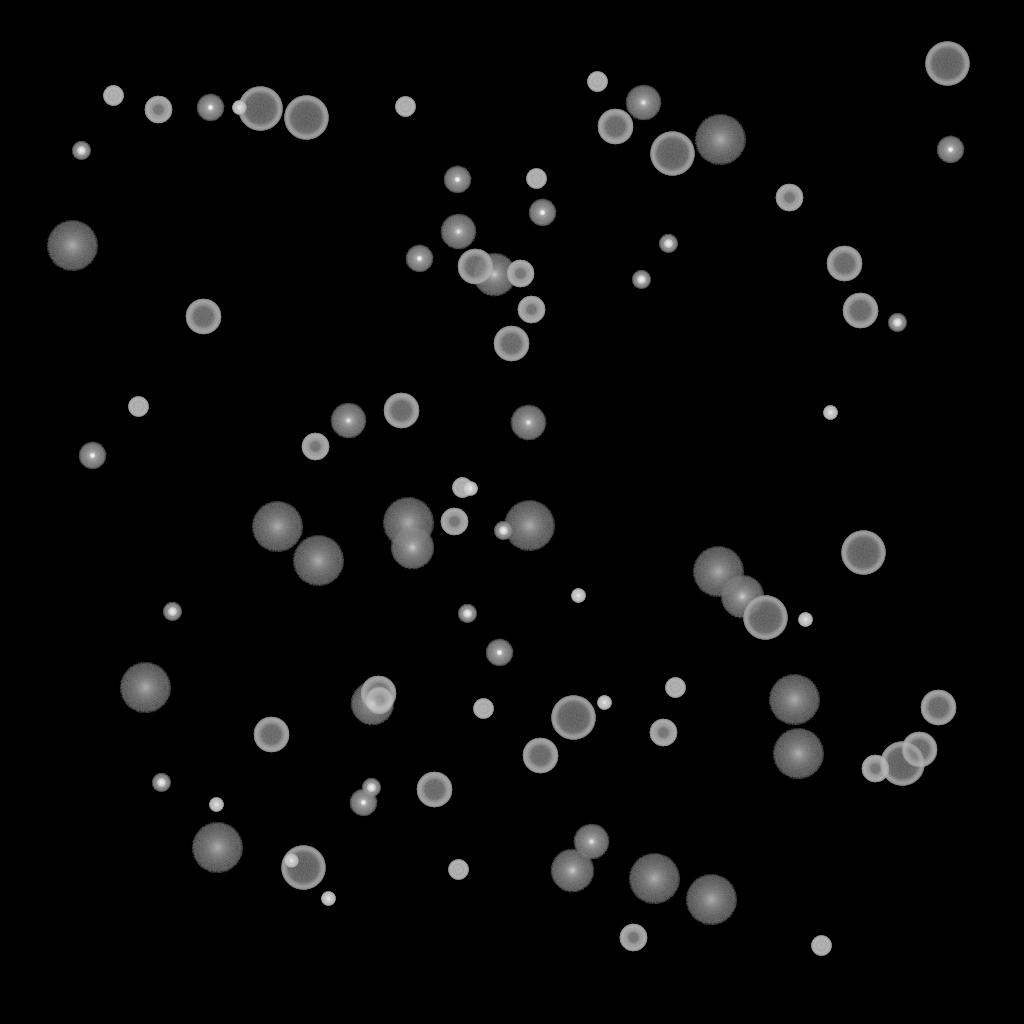depth:-10: (443, 166, 471, 194), (936, 136, 964, 164), (405, 245, 433, 273), (196, 94, 224, 122), (349, 789, 377, 817), (528, 199, 556, 227), (485, 639, 513, 667), (78, 442, 106, 470)
depth:-20: (888, 314, 906, 332), (163, 603, 181, 621), (632, 271, 650, 289), (659, 235, 677, 253), (72, 142, 90, 160), (458, 605, 476, 623), (494, 522, 512, 540), (152, 774, 170, 792), (362, 779, 380, 797)
depth:-30: (321, 892, 335, 906), (798, 613, 812, 627), (597, 696, 611, 710), (571, 589, 585, 603), (463, 482, 477, 496), (284, 854, 298, 868), (232, 101, 246, 115), (823, 406, 837, 420), (209, 798, 223, 812)
depth:-40: (526, 169, 546, 189), (811, 936, 831, 956), (128, 397, 148, 417), (452, 478, 472, 498), (448, 860, 468, 880), (473, 699, 493, 719), (665, 678, 685, 698), (103, 86, 123, 106), (395, 97, 415, 117), (587, 72, 607, 92)
depth:-50: (144, 96, 172, 124), (440, 508, 468, 536), (301, 433, 329, 461), (775, 184, 803, 212), (619, 924, 647, 952), (365, 687, 393, 715), (649, 719, 677, 747), (506, 260, 534, 288), (861, 755, 889, 783), (517, 296, 545, 324)
depth:-60: (920, 690, 956, 726), (597, 109, 633, 145), (826, 246, 862, 282), (360, 676, 396, 712), (253, 717, 289, 753), (457, 249, 493, 285), (416, 772, 452, 808), (493, 326, 529, 362), (185, 299, 221, 335), (383, 393, 419, 429), (842, 293, 878, 329), (901, 732, 937, 768), (522, 738, 558, 774)
depth:-70: (841, 531, 885, 575), (284, 96, 328, 140), (743, 596, 787, 640), (650, 132, 694, 176), (281, 846, 325, 890), (551, 696, 595, 740), (880, 742, 924, 786), (238, 87, 282, 131), (925, 42, 969, 86)
depth:0: (573, 824, 609, 860), (330, 403, 366, 439), (440, 214, 476, 250), (510, 405, 546, 441), (625, 85, 661, 121)
depth:10: (472, 253, 516, 297), (390, 526, 434, 570), (550, 849, 594, 893), (350, 682, 394, 726), (720, 575, 764, 619)
depth:20: (292, 536, 344, 586), (692, 547, 744, 597), (119, 663, 171, 713), (251, 502, 303, 552), (685, 875, 737, 925), (46, 221, 98, 271), (191, 823, 243, 873), (768, 675, 820, 725), (503, 501, 555, 551), (694, 115, 746, 165), (628, 854, 680, 904), (772, 729, 824, 779), (382, 498, 434, 548)
